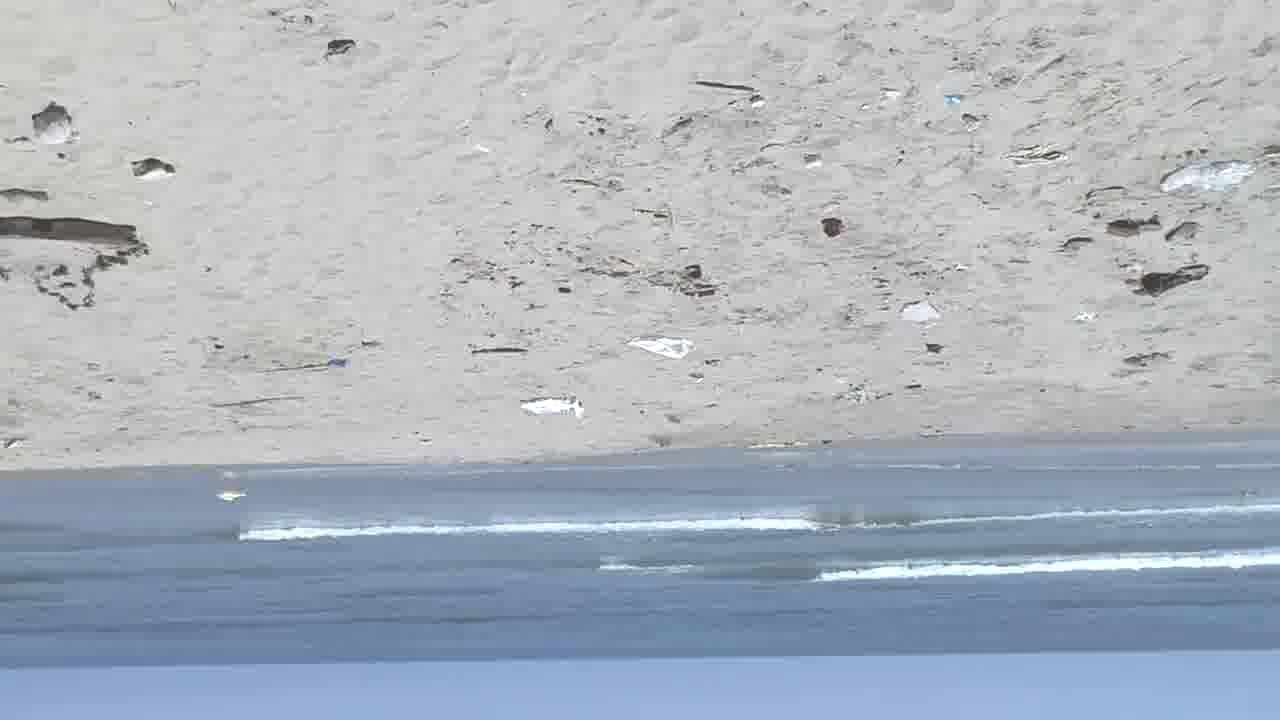large collection of objects: (134, 158, 172, 185)
obj: (2, 209, 154, 314), (1162, 152, 1254, 195), (19, 98, 77, 153), (518, 391, 592, 427), (834, 373, 889, 413), (318, 35, 368, 76), (900, 292, 946, 335), (627, 335, 694, 363), (1104, 222, 1168, 244), (799, 152, 828, 176), (746, 92, 773, 112)
sand/background: (0, 423, 1279, 719)
